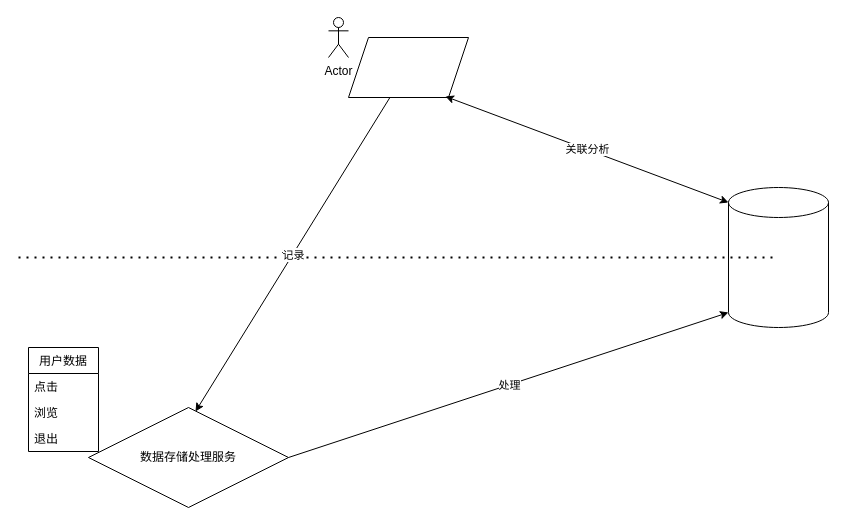
Some shapes in this 846 by 525 pixel diagram are drawn without their labels. Each missing label, with the centre of its shape:
"埋点采集JSSDK" goes at [408,67].
"数据可视化平台" goes at [778,257].
